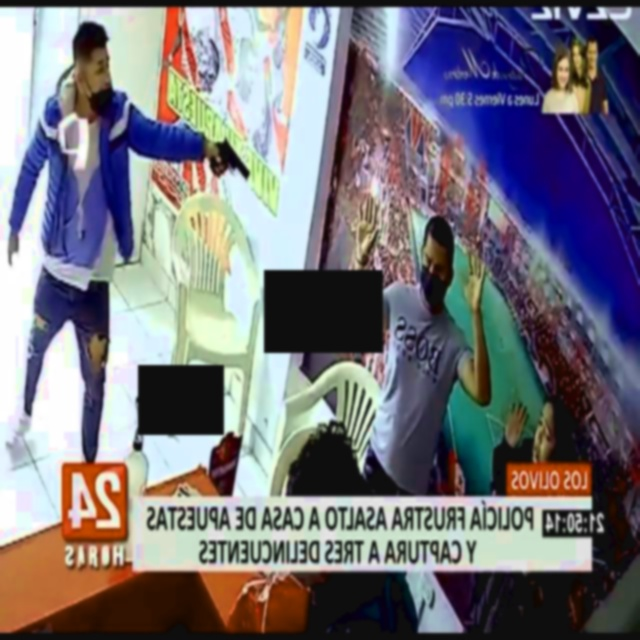gun: (203, 120, 258, 194)
